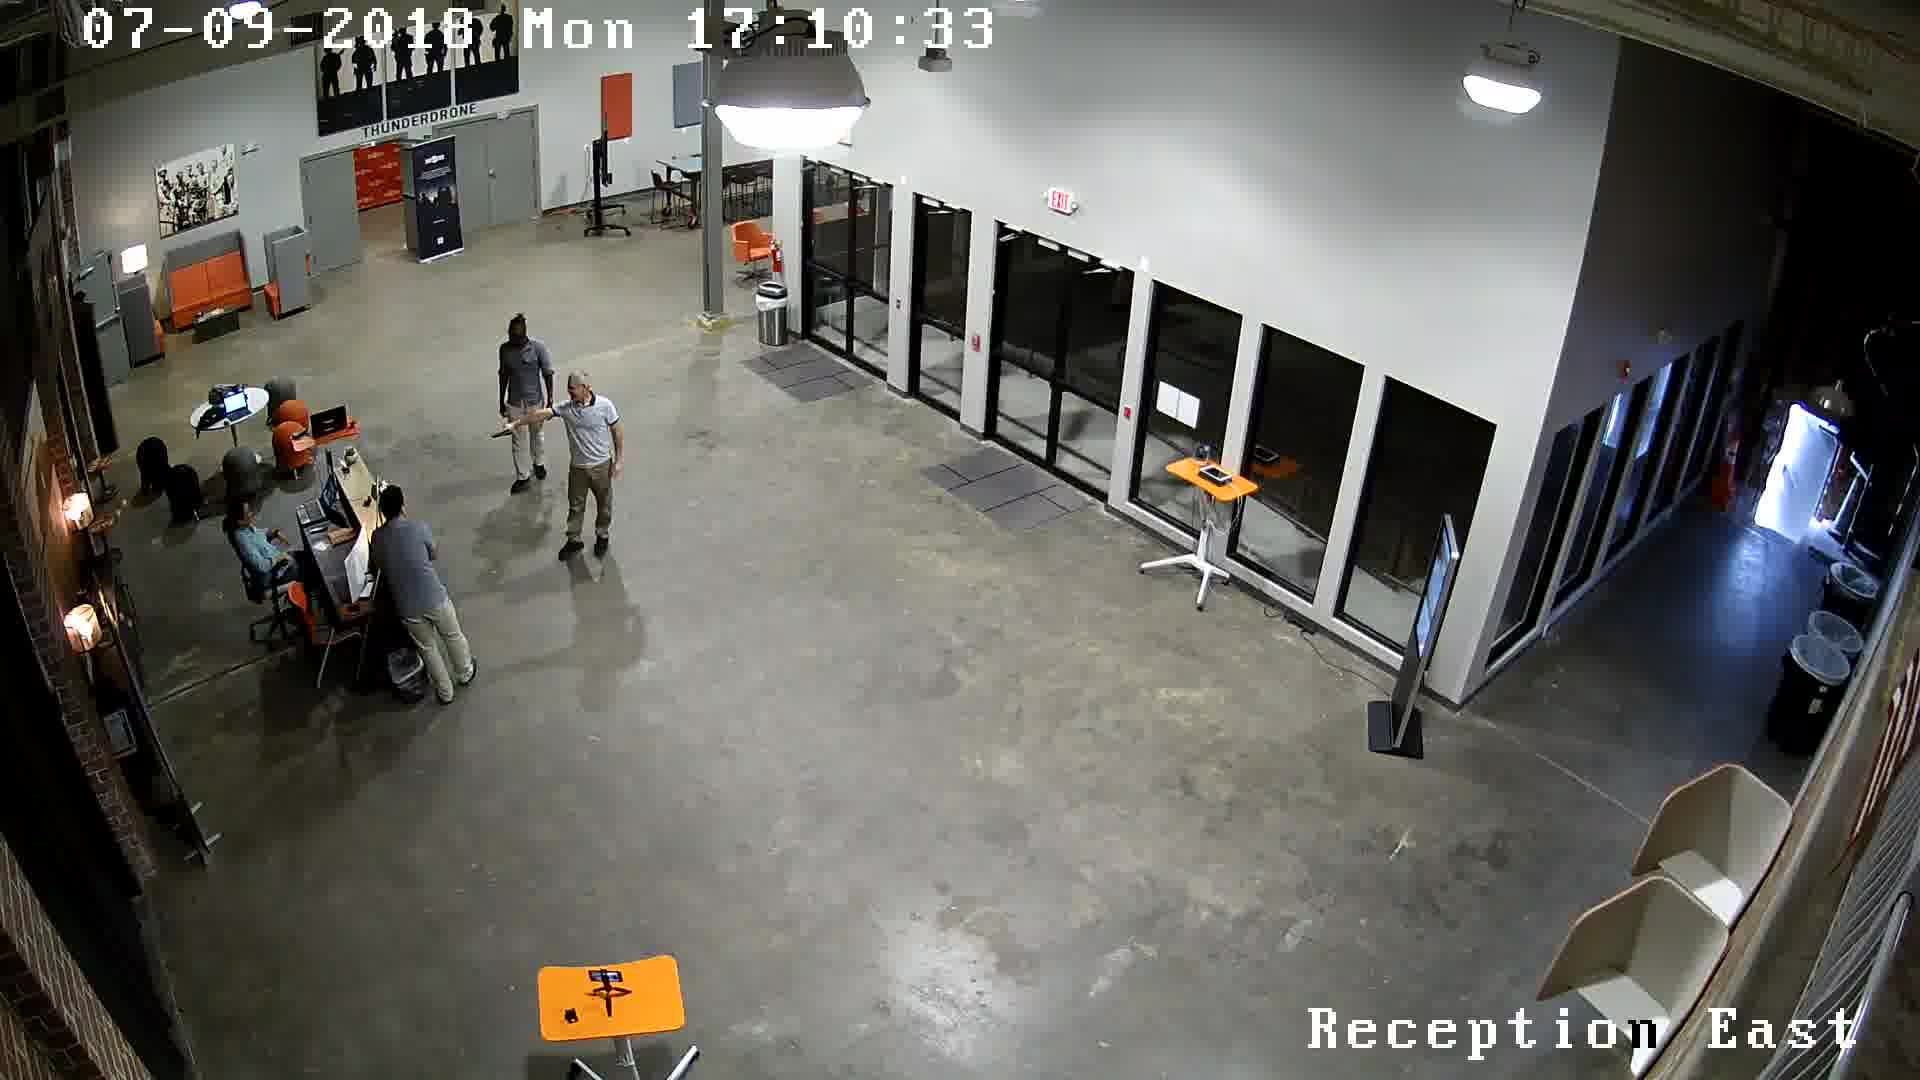pistol: (476, 417, 527, 454)
